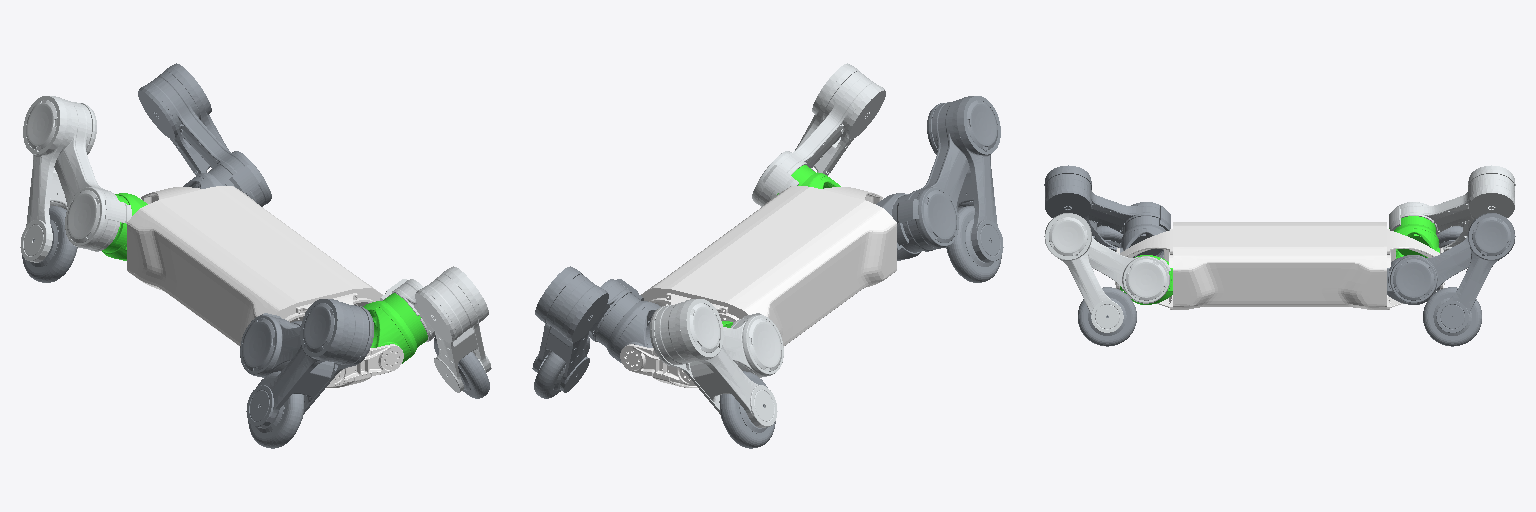
URDF robot description (Phybot_Dog):
<?xml version="1.0" encoding="utf-8"?>
<!-- This URDF was automatically created by SolidWorks to URDF Exporter! Originally created by [author] ([email redacted]) 
     Commit Version: 1.6.0-4-g7f85cfe  Build Version: 1.6.7995.38578
     For more information, please see http://wiki.ros.org/sw_urdf_exporter -->
<robot
  name="Phybot_Dog">
  <link
    name="QG">
    <inertial>
      <origin
        xyz="-7.9149008920116E-06 0.00110777362686082 0.00968309486647675"
        rpy="0 0 0" />
      <mass
        value="69.4268444694369" />
      <inertia
        ixx="1.62675565213314"
        ixy="1.12267629366067E-05"
        ixz="3.58206261397234E-06"
        iyy="0.543088138156943"
        iyz="-0.00834140371984384"
        izz="1.78322762851206" />
    </inertial>
    <visual>
      <origin
        xyz="0 0 0"
        rpy="0 0 0" />
      <geometry>
        <mesh
          filename="package://Phybot_Dog/meshes/QG.STL" />
      </geometry>
      <material
        name="">
        <color
          rgba="1 1 1 1" />
      </material>
    </visual>
    <collision>
      <origin
        xyz="0 0 0"
        rpy="0 0 0" />
      <geometry>
        <mesh
          filename="package://Phybot_Dog/meshes/QG.STL" />
      </geometry>
    </collision>
  </link>
  <link
    name="QZ1">
    <inertial>
      <origin
        xyz="0.0775437506849822 0.0361646529985529 0.0941220864479111"
        rpy="0 0 0" />
      <mass
        value="11.3988150862893" />
      <inertia
        ixx="0.0311334284055965"
        ixy="-0.00407181413551423"
        ixz="0.00101554448927632"
        iyy="0.0242969505523253"
        iyz="0.000474029045671959"
        izz="0.0231025497820495" />
    </inertial>
    <visual>
      <origin
        xyz="0 0 0"
        rpy="0 0 0" />
      <geometry>
        <mesh
          filename="package://Phybot_Dog/meshes/QZ1.STL" />
      </geometry>
      <material
        name="">
        <color
          rgba="0.345098039215686 0.988235294117647 0.309803921568627 1" />
      </material>
    </visual>
    <collision>
      <origin
        xyz="0 0 0"
        rpy="0 0 0" />
      <geometry>
        <mesh
          filename="package://Phybot_Dog/meshes/QZ1.STL" />
      </geometry>
    </collision>
  </link>
  <joint
    name="QZ1"
    type="revolute">
    <origin
      xyz="0.085 -0.352 0"
      rpy="1.5707963267949 0 0" />
    <parent
      link="QG" />
    <child
      link="QZ1" />
    <axis
      xyz="0 0 -1" />
    <limit
      lower="0"
      upper="0.9594444"
      effort="500"
      velocity="8.37" />
  </joint>
  <link
    name="QZ2">
    <inertial>
      <origin
        xyz="-0.216772378161901 0.11261042952501 0.0345129696167537"
        rpy="0 0 0" />
      <mass
        value="16.5988809568701" />
      <inertia
        ixx="0.0347212588302202"
        ixy="-0.0121947891064067"
        ixz="0.000225495242361344"
        iyy="0.0537532289816826"
        iyz="-0.000130254150186785"
        izz="0.0769247486646341" />
    </inertial>
    <visual>
      <origin
        xyz="0 0 0"
        rpy="0 0 0" />
      <geometry>
        <mesh
          filename="package://Phybot_Dog/meshes/QZ2.STL" />
      </geometry>
      <material
        name="">
        <color
          rgba="0.898039215686275 0.917647058823529 0.929411764705882 1" />
      </material>
    </visual>
    <collision>
      <origin
        xyz="0 0 0"
        rpy="0 0 0" />
      <geometry>
        <mesh
          filename="package://Phybot_Dog/meshes/QZ2.STL" />
      </geometry>
    </collision>
  </link>
  <joint
    name="QZ2"
    type="revolute">
    <origin
      xyz="0.119632627888837 0.0557856105497737 0.0979999999999999"
      rpy="-1.57079632679491 1.54461638801504 -1.13446401379631" />
    <parent
      link="QZ1" />
    <child
      link="QZ2" />
    <axis
      xyz="0 0 -1" />
    <limit
      lower="-4.954"
      upper="0"
      effort="500"
      velocity="8.37" />
  </joint>
  <link
    name="QZ3">
    <inertial>
      <origin
        xyz="0.083680060652255 -0.0642898732189237 -0.0345107664602058"
        rpy="0 0 0" />
      <mass
        value="3.16664282573473" />
      <inertia
        ixx="0.0139248241113602"
        ixy="-0.0144258902355322"
        ixz="-0.000652334086005751"
        iyy="0.0234200845164083"
        iyz="0.000554397584694246"
        izz="0.0364577743970918" />
    </inertial>
    <visual>
      <origin
        xyz="0 0 0"
        rpy="0 0 0" />
      <geometry>
        <mesh
          filename="package://Phybot_Dog/meshes/QZ3.STL" />
      </geometry>
      <material
        name="">
        <color
          rgba="0.898039215686275 0.917647058823529 0.929411764705882 1" />
      </material>
    </visual>
    <collision>
      <origin
        xyz="0 0 0"
        rpy="0 0 0" />
      <geometry>
        <mesh
          filename="package://Phybot_Dog/meshes/QZ3.STL" />
      </geometry>
    </collision>
  </link>
  <joint
    name="QZ3"
    type="revolute">
    <origin
      xyz="-0.266103249953458 0.138524583970524 0.0739999999999982"
      rpy="0 0 -0.479965544298501" />
    <parent
      link="QZ2" />
    <child
      link="QZ3" />
    <axis
      xyz="0 0 1" />
    <limit
      lower="-5.0589"
      upper="0"
      effort="500"
      velocity="8.37" />
  </joint>
  <link
    name="QZ4">
    <inertial>
      <origin
        xyz="1.74372358774377E-07 1.58097531177681E-08 -0.0299816036835657"
        rpy="0 0 0" />
      <mass
        value="12.1034935771713" />
      <inertia
        ixx="0.0295746209071568"
        ixy="-2.46337733033133E-08"
        ixz="-1.39073912097755E-08"
        iyy="0.0295748255202387"
        iyz="3.49305904958312E-09"
        izz="0.0535608230133727" />
    </inertial>
    <visual>
      <origin
        xyz="0 0 0"
        rpy="0 0 0" />
      <geometry>
        <mesh
          filename="package://Phybot_Dog/meshes/QZ4.STL" />
      </geometry>
      <material
        name="">
        <color
          rgba="0.615686274509804 0.643137254901961 0.674509803921569 1" />
      </material>
    </visual>
    <collision>
      <origin
        xyz="0 0 0"
        rpy="0 0 0" />
      <geometry>
        <mesh
          filename="package://Phybot_Dog/meshes/QZ4.STL" />
      </geometry>
    </collision>
  </link>
  <joint
    name="QZ4"
    type="continuous">
    <origin
      xyz="0.24575 -0.17207 -0.024"
      rpy="0 0 0.95993" />
    <parent
      link="QZ3" />
    <child
      link="QZ4" />
    <axis
      xyz="0 0 1" />
    <limit
      lower="0"
      upper="0"
      effort="14.5"
      velocity="73.3" />
  </joint>
  <link
    name="QY1">
    <inertial>
      <origin
        xyz="-0.0677392880102253 0.0316052348999514 0.0895118426562399"
        rpy="0 0 0" />
      <mass
        value="5.09686249578635" />
      <inertia
        ixx="0.0153664252086449"
        ixy="0.00193982194815184"
        ixz="-0.000987885206133284"
        iyy="0.0121102026440304"
        iyz="0.000459394223461394"
        izz="0.0119694068374009" />
    </inertial>
    <visual>
      <origin
        xyz="0 0 0"
        rpy="0 0 0" />
      <geometry>
        <mesh
          filename="package://Phybot_Dog/meshes/QY1.STL" />
      </geometry>
      <material
        name="">
        <color
          rgba="0.615686274509804 0.643137254901961 0.674509803921569 1" />
      </material>
    </visual>
    <collision>
      <origin
        xyz="0 0 0"
        rpy="0 0 0" />
      <geometry>
        <mesh
          filename="package://Phybot_Dog/meshes/QY1.STL" />
      </geometry>
    </collision>
  </link>
  <joint
    name="QY1"
    type="revolute">
    <origin
      xyz="-0.085 -0.352 0"
      rpy="1.5708 0 0" />
    <parent
      link="QG" />
    <child
      link="QY1" />
    <axis
      xyz="0 0 -1" />
    <limit
      lower="-0.95944"
      upper="0"
      effort="500"
      velocity="8.37" />
  </joint>
  <link
    name="QY2">
    <inertial>
      <origin
        xyz="-0.184064126522959 0.101645346154838 -0.0334146881109333"
        rpy="0 0 0" />
      <mass
        value="10.2969358983131" />
      <inertia
        ixx="0.0242253572445075"
        ixy="-0.0126507606308741"
        ixz="-0.000249433879387364"
        iyy="0.0419226694388048"
        iyz="0.000151223504975348"
        izz="0.0601637589871316" />
    </inertial>
    <visual>
      <origin
        xyz="0 0 0"
        rpy="0 0 0" />
      <geometry>
        <mesh
          filename="package://Phybot_Dog/meshes/QY2.STL" />
      </geometry>
      <material
        name="">
        <color
          rgba="0.615686274509804 0.643137254901961 0.674509803921569 1" />
      </material>
    </visual>
    <collision>
      <origin
        xyz="0 0 0"
        rpy="0 0 0" />
      <geometry>
        <mesh
          filename="package://Phybot_Dog/meshes/QY2.STL" />
      </geometry>
    </collision>
  </link>
  <joint
    name="QY2"
    type="revolute">
    <origin
      xyz="-0.11963 0.055786 0.098"
      rpy="0.43633 1.5708 0" />
    <parent
      link="QY1" />
    <child
      link="QY2" />
    <axis
      xyz="0 0 1" />
    <limit
      lower="0"
      upper="4.954"
      effort="500"
      velocity="8.37" />
  </joint>
  <link
    name="QY3">
    <inertial>
      <origin
        xyz="0.0819688267903985 0.0664580637604949 -0.0345107762679036"
        rpy="0 0 0" />
      <mass
        value="3.16664773141865" />
      <inertia
        ixx="0.0146862958343489"
        ixy="0.014654604368603"
        ixz="-0.000637605247239148"
        iyy="0.0226586765776174"
        iyz="-0.000571294294275789"
        izz="0.0364578301626592" />
    </inertial>
    <visual>
      <origin
        xyz="0 0 0"
        rpy="0 0 0" />
      <geometry>
        <mesh
          filename="package://Phybot_Dog/meshes/QY3.STL" />
      </geometry>
      <material
        name="">
        <color
          rgba="0.615686274509804 0.643137254901961 0.674509803921569 1" />
      </material>
    </visual>
    <collision>
      <origin
        xyz="0 0 0"
        rpy="0 0 0" />
      <geometry>
        <mesh
          filename="package://Phybot_Dog/meshes/QY3.STL" />
      </geometry>
    </collision>
  </link>
  <joint
    name="QY3"
    type="revolute">
    <origin
      xyz="-0.26239 0.14544 -0.074"
      rpy="3.1416 0 -0.47997" />
    <parent
      link="QY2" />
    <child
      link="QY3" />
    <axis
      xyz="0 0 1" />
    <limit
      lower="0"
      upper="5.0589"
      effort="500"
      velocity="8.37" />
  </joint>
  <link
    name="QY4">
    <inertial>
      <origin
        xyz="1.67560837427416E-07 -1.58148127926694E-08 0.0299816036755503"
        rpy="0 0 0" />
      <mass
        value="12.1034935809726" />
      <inertia
        ixx="0.0295746209014341"
        ixy="2.46379259260035E-08"
        ixz="1.38955662673185E-08"
        iyy="0.0295748255349005"
        iyz="3.4938581150751E-09"
        izz="0.0535608230194681" />
    </inertial>
    <visual>
      <origin
        xyz="0 0 0"
        rpy="0 0 0" />
      <geometry>
        <mesh
          filename="package://Phybot_Dog/meshes/QY4.STL" />
      </geometry>
      <material
        name="">
        <color
          rgba="0.615686274509804 0.643137254901961 0.674509803921569 1" />
      </material>
    </visual>
    <collision>
      <origin
        xyz="0 0 0"
        rpy="0 0 0" />
      <geometry>
        <mesh
          filename="package://Phybot_Dog/meshes/QY4.STL" />
      </geometry>
    </collision>
  </link>
  <joint
    name="QY4"
    type="continuous">
    <origin
      xyz="0.241157058185308 0.17844683602521 -0.0240000000000011"
      rpy="-3.14159265358979 0 -0.933751149817149" />
    <parent
      link="QY3" />
    <child
      link="QY4" />
    <axis
      xyz="0 0 -1" />
    <limit
      lower="0"
      upper="0"
      effort="14.5"
      velocity="73.3" />
  </joint>
  <link
    name="HZ1">
    <inertial>
      <origin
        xyz="-0.0677392878816737 0.0316052349963488 0.0895118426822175"
        rpy="0 0 0" />
      <mass
        value="5.09686250857397" />
      <inertia
        ixx="0.015366425277405"
        ixy="0.00193982196213994"
        ixz="-0.000987885193670879"
        iyy="0.0121102026793238"
        iyz="0.000459394256869541"
        izz="0.0119694068809009" />
    </inertial>
    <visual>
      <origin
        xyz="0 0 0"
        rpy="0 0 0" />
      <geometry>
        <mesh
          filename="package://Phybot_Dog/meshes/HZ1.STL" />
      </geometry>
      <material
        name="">
        <color
          rgba="0.615686274509804 0.643137254901961 0.674509803921569 1" />
      </material>
    </visual>
    <collision>
      <origin
        xyz="0 0 0"
        rpy="0 0 0" />
      <geometry>
        <mesh
          filename="package://Phybot_Dog/meshes/HZ1.STL" />
      </geometry>
    </collision>
  </link>
  <joint
    name="HZ1"
    type="revolute">
    <origin
      xyz="0.085 0.352 0"
      rpy="1.5708 0 3.1416" />
    <parent
      link="QG" />
    <child
      link="HZ1" />
    <axis
      xyz="0 0 -1" />
    <limit
      lower="-0.95944"
      upper="0"
      effort="500"
      velocity="8.37" />
  </joint>
  <link
    name="HZ2">
    <inertial>
      <origin
        xyz="-0.184064126616538 0.101645346274349 -0.0334146881231786"
        rpy="0 0 0" />
      <mass
        value="10.2969358766824" />
      <inertia
        ixx="0.0242253572380105"
        ixy="-0.0126507606198981"
        ixz="-0.00024943388754415"
        iyy="0.0419226693514055"
        iyz="0.00015122350487637"
        izz="0.0601637588949353" />
    </inertial>
    <visual>
      <origin
        xyz="0 0 0"
        rpy="0 0 0" />
      <geometry>
        <mesh
          filename="package://Phybot_Dog/meshes/HZ2.STL" />
      </geometry>
      <material
        name="">
        <color
          rgba="0.615686274509804 0.643137254901961 0.674509803921569 1" />
      </material>
    </visual>
    <collision>
      <origin
        xyz="0 0 0"
        rpy="0 0 0" />
      <geometry>
        <mesh
          filename="package://Phybot_Dog/meshes/HZ2.STL" />
      </geometry>
    </collision>
  </link>
  <joint
    name="HZ2"
    type="revolute">
    <origin
      xyz="-0.11963 0.055786 0.098"
      rpy="0.43633 1.5708 0" />
    <parent
      link="HZ1" />
    <child
      link="HZ2" />
    <axis
      xyz="0 0 1" />
    <limit
      lower="0"
      upper="4.954"
      effort="500"
      velocity="8.37" />
  </joint>
  <link
    name="HZ3">
    <inertial>
      <origin
        xyz="0.0819688268703376 0.0664580637949346 -0.034510776233403"
        rpy="0 0 0" />
      <mass
        value="3.16664773532842" />
      <inertia
        ixx="0.0146862958321407"
        ixy="0.0146546043672623"
        ixz="-0.000637605246399743"
        iyy="0.0226586765759784"
        iyz="-0.0005712942932757"
        izz="0.0364578301599943" />
    </inertial>
    <visual>
      <origin
        xyz="0 0 0"
        rpy="0 0 0" />
      <geometry>
        <mesh
          filename="package://Phybot_Dog/meshes/HZ3.STL" />
      </geometry>
      <material
        name="">
        <color
          rgba="0.615686274509804 0.643137254901961 0.674509803921569 1" />
      </material>
    </visual>
    <collision>
      <origin
        xyz="0 0 0"
        rpy="0 0 0" />
      <geometry>
        <mesh
          filename="package://Phybot_Dog/meshes/HZ3.STL" />
      </geometry>
    </collision>
  </link>
  <joint
    name="HZ3"
    type="revolute">
    <origin
      xyz="-0.26239 0.14544 -0.074"
      rpy="3.1416 0 -0.47997" />
    <parent
      link="HZ2" />
    <child
      link="HZ3" />
    <axis
      xyz="0 0 1" />
    <limit
      lower="0"
      upper="5.0589"
      effort="500"
      velocity="8.37" />
  </joint>
  <link
    name="HZ4">
    <inertial>
      <origin
        xyz="1.67560837427416E-07 1.58148127094027E-08 -0.0299816036755503"
        rpy="0 0 0" />
      <mass
        value="12.1034935809726" />
      <inertia
        ixx="0.0295746209014341"
        ixy="-2.46379259277382E-08"
        ixz="-1.38955662708316E-08"
        iyy="0.0295748255349005"
        iyz="3.49385810572435E-09"
        izz="0.0535608230194681" />
    </inertial>
    <visual>
      <origin
        xyz="0 0 0"
        rpy="0 0 0" />
      <geometry>
        <mesh
          filename="package://Phybot_Dog/meshes/HZ4.STL" />
      </geometry>
      <material
        name="">
        <color
          rgba="0.615686274509804 0.643137254901961 0.674509803921569 1" />
      </material>
    </visual>
    <collision>
      <origin
        xyz="0 0 0"
        rpy="0 0 0" />
      <geometry>
        <mesh
          filename="package://Phybot_Dog/meshes/HZ4.STL" />
      </geometry>
    </collision>
  </link>
  <joint
    name="HZ4"
    type="continuous">
    <origin
      xyz="0.24116 0.17845 -0.024"
      rpy="0 0 -0.93375" />
    <parent
      link="HZ3" />
    <child
      link="HZ4" />
    <axis
      xyz="0 0 1" />
    <limit
      lower="0"
      upper="0"
      effort="14.5"
      velocity="73.3" />
  </joint>
  <link
    name="HY1">
    <inertial>
      <origin
        xyz="0.0775437506214224 0.0361646530532212 0.0941220864502537"
        rpy="0 0 0" />
      <mass
        value="11.3988150957816" />
      <inertia
        ixx="0.0311334284563506"
        ixy="-0.00407181414297934"
        ixz="0.00101554448287208"
        iyy="0.0242969505751019"
        iyz="0.000474029070266143"
        izz="0.0231025498111459" />
    </inertial>
    <visual>
      <origin
        xyz="0 0 0"
        rpy="0 0 0" />
      <geometry>
        <mesh
          filename="package://Phybot_Dog/meshes/HY1.STL" />
      </geometry>
      <material
        name="">
        <color
          rgba="0.345098039215686 0.988235294117647 0.309803921568627 1" />
      </material>
    </visual>
    <collision>
      <origin
        xyz="0 0 0"
        rpy="0 0 0" />
      <geometry>
        <mesh
          filename="package://Phybot_Dog/meshes/HY1.STL" />
      </geometry>
    </collision>
  </link>
  <joint
    name="HY1"
    type="revolute">
    <origin
      xyz="-0.085 0.352 0"
      rpy="1.5707963267949 0 3.14159265358979" />
    <parent
      link="QG" />
    <child
      link="HY1" />
    <axis
      xyz="0 0 -1" />
    <limit
      lower="0"
      upper="0.9594444"
      effort="500"
      velocity="8.37" />
  </joint>
  <link
    name="HY2">
    <inertial>
      <origin
        xyz="0.216772378138329 0.112610429510572 -0.0345129696156308"
        rpy="0 0 0" />
      <mass
        value="16.5988809616036" />
      <inertia
        ixx="0.0347212588396624"
        ixy="0.0121947891185331"
        ixz="0.000225495240221157"
        iyy="0.0537532290074805"
        iyz="0.000130254148952508"
        izz="0.076924748699789" />
    </inertial>
    <visual>
      <origin
        xyz="0 0 0"
        rpy="0 0 0" />
      <geometry>
        <mesh
          filename="package://Phybot_Dog/meshes/HY2.STL" />
      </geometry>
      <material
        name="">
        <color
          rgba="0.898039215686275 0.917647058823529 0.929411764705882 1" />
      </material>
    </visual>
    <collision>
      <origin
        xyz="0 0 0"
        rpy="0 0 0" />
      <geometry>
        <mesh
          filename="package://Phybot_Dog/meshes/HY2.STL" />
      </geometry>
    </collision>
  </link>
  <joint
    name="HY2"
    type="revolute">
    <origin
      xyz="0.119632627888841 0.0557856105497661 0.0979999999999999"
      rpy="-1.57079632679489 -1.54461638801505 2.00712863979342" />
    <parent
      link="HY1" />
    <child
      link="HY2" />
    <axis
      xyz="0 0 1" />
    <limit
      lower="-4.954"
      upper="0"
      effort="500"
      velocity="8.37" />
  </joint>
  <link
    name="HY3">
    <inertial>
      <origin
        xyz="-0.0836800606382357 0.0642898732080385 -0.0345107664530835"
        rpy="0 0 0" />
      <mass
        value="3.16664282607749" />
      <inertia
        ixx="0.0139248241116449"
        ixy="-0.0144258902361508"
        ixz="0.000652334085999585"
        iyy="0.0234200845176938"
        iyz="-0.000554397584685117"
        izz="0.0364577743986498" />
    </inertial>
    <visual>
      <origin
        xyz="0 0 0"
        rpy="0 0 0" />
      <geometry>
        <mesh
          filename="package://Phybot_Dog/meshes/HY3.STL" />
      </geometry>
      <material
        name="">
        <color
          rgba="0.898039215686275 0.917647058823529 0.929411764705882 1" />
      </material>
    </visual>
    <collision>
      <origin
        xyz="0 0 0"
        rpy="0 0 0" />
      <geometry>
        <mesh
          filename="package://Phybot_Dog/meshes/HY3.STL" />
      </geometry>
    </collision>
  </link>
  <joint
    name="HY3"
    type="revolute">
    <origin
      xyz="0.266103249953459 0.138524583970524 -0.0739999999999986"
      rpy="3.14159265358979 0 0.479965544298501" />
    <parent
      link="HY2" />
    <child
      link="HY3" />
    <axis
      xyz="0 0 1" />
    <limit
      lower="-5.0589"
      upper="0"
      effort="500"
      velocity="8.37" />
  </joint>
  <link
    name="HY4">
    <inertial>
      <origin
        xyz="-1.74372358663355E-07 -1.58097530900125E-08 -0.0299816036835657"
        rpy="0 0 0" />
      <mass
        value="12.1034935771713" />
      <inertia
        ixx="0.0295746209071568"
        ixy="-2.46337733033133E-08"
        ixz="1.39073912102593E-08"
        iyy="0.0295748255202386"
        iyz="-3.49305904226688E-09"
        izz="0.0535608230133727" />
    </inertial>
    <visual>
      <origin
        xyz="0 0 0"
        rpy="0 0 0" />
      <geometry>
        <mesh
          filename="package://Phybot_Dog/meshes/HY4.STL" />
      </geometry>
      <material
        name="">
        <color
          rgba="0.615686274509804 0.643137254901961 0.674509803921569 1" />
      </material>
    </visual>
    <collision>
      <origin
        xyz="0 0 0"
        rpy="0 0 0" />
      <geometry>
        <mesh
          filename="package://Phybot_Dog/meshes/HY4.STL" />
      </geometry>
    </collision>
  </link>
  <joint
    name="HY4"
    type="continuous">
    <origin
      xyz="-0.245745613286825 0.172072930905133 -0.0240000000000011"
      rpy="0 0 0.959931088597001" />
    <parent
      link="HY3" />
    <child
      link="HY4" />
    <axis
      xyz="0 0 1" />
    <limit
      lower="0"
      upper="0"
      effort="14.5"
      velocity="73.3" />
  </joint>
</robot>

--- Facts derived from the render (not from the file) ---
Views: 3 orthographic renders of the robot side by side, from view 1: azimuth 30°, elevation 25°; view 2: azimuth 150°, elevation 25°; view 3: azimuth 270°, elevation 25°.
Model Phybot_Dog with 17 links and 16 joints (12 revolute, 4 continuous), rooted at QG, posed every joint at zero.
Visible links, largest first — view 1: QG, QY3, HY2, HY3, QY2, HZ2, QZ3, HZ3, QZ1, QZ2, HY4, QY4 (+3 smaller); view 2: QG, HY3, QY2, QY3, HY2, QZ2, HZ3, QZ3, HZ1, HZ2, QY4, HY4 (+3 smaller); view 3: QG, QZ3, HZ3, QZ2, HZ2, QY2, HY2, QY3, HY3, HZ4, QZ4, HY1 (+1 smaller).
Boxes of the visible links, x1,y1,x2,y2 form: QG: (127, 186, 403, 387); QY3: (246, 299, 373, 427); HY2: (54, 99, 131, 251); HY3: (20, 96, 96, 262); QY2: (240, 302, 368, 377); HZ2: (145, 71, 271, 206); QZ3: (415, 266, 491, 392); HZ3: (138, 63, 228, 175); QZ1: (363, 293, 427, 363); QZ2: (380, 274, 477, 341); HY4: (22, 206, 77, 282); QY4: (248, 371, 303, 448); QG: (620, 186, 896, 387); HY3: (650, 299, 777, 427); QY2: (892, 99, 969, 251); QY3: (927, 96, 1003, 262); HY2: (655, 302, 783, 377); QZ2: (752, 71, 878, 206); HZ3: (532, 266, 608, 392); QZ3: (795, 63, 885, 175); HZ1: (596, 293, 660, 362); HZ2: (546, 274, 643, 341); QY4: (946, 206, 1001, 282); HY4: (720, 371, 775, 448); QG: (1115, 222, 1444, 309); QZ3: (1044, 213, 1123, 332); HZ3: (1436, 213, 1515, 332); QZ2: (1089, 236, 1170, 303); HZ2: (1389, 236, 1470, 303); QY2: (1045, 174, 1170, 234); HY2: (1389, 174, 1514, 234); QY3: (1044, 165, 1117, 251); HY3: (1442, 165, 1515, 251); HZ4: (1423, 287, 1481, 346); QZ4: (1078, 287, 1136, 346); HY1: (1389, 216, 1439, 258).
Bounding box of the posed robot: 0.6958 × 1.58 × 0.4383 m (x, y, z).
Meshes: 17 distinct files referenced, 17 mesh visuals loaded (17 binary STL).